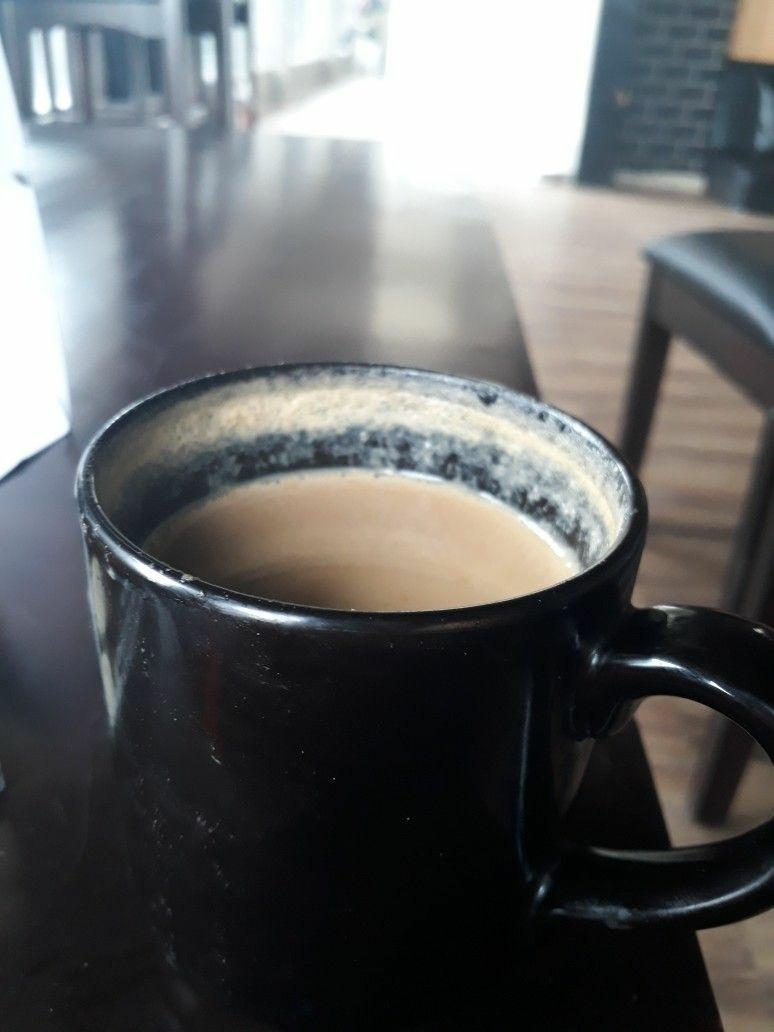Chai: (141, 467, 588, 616)
